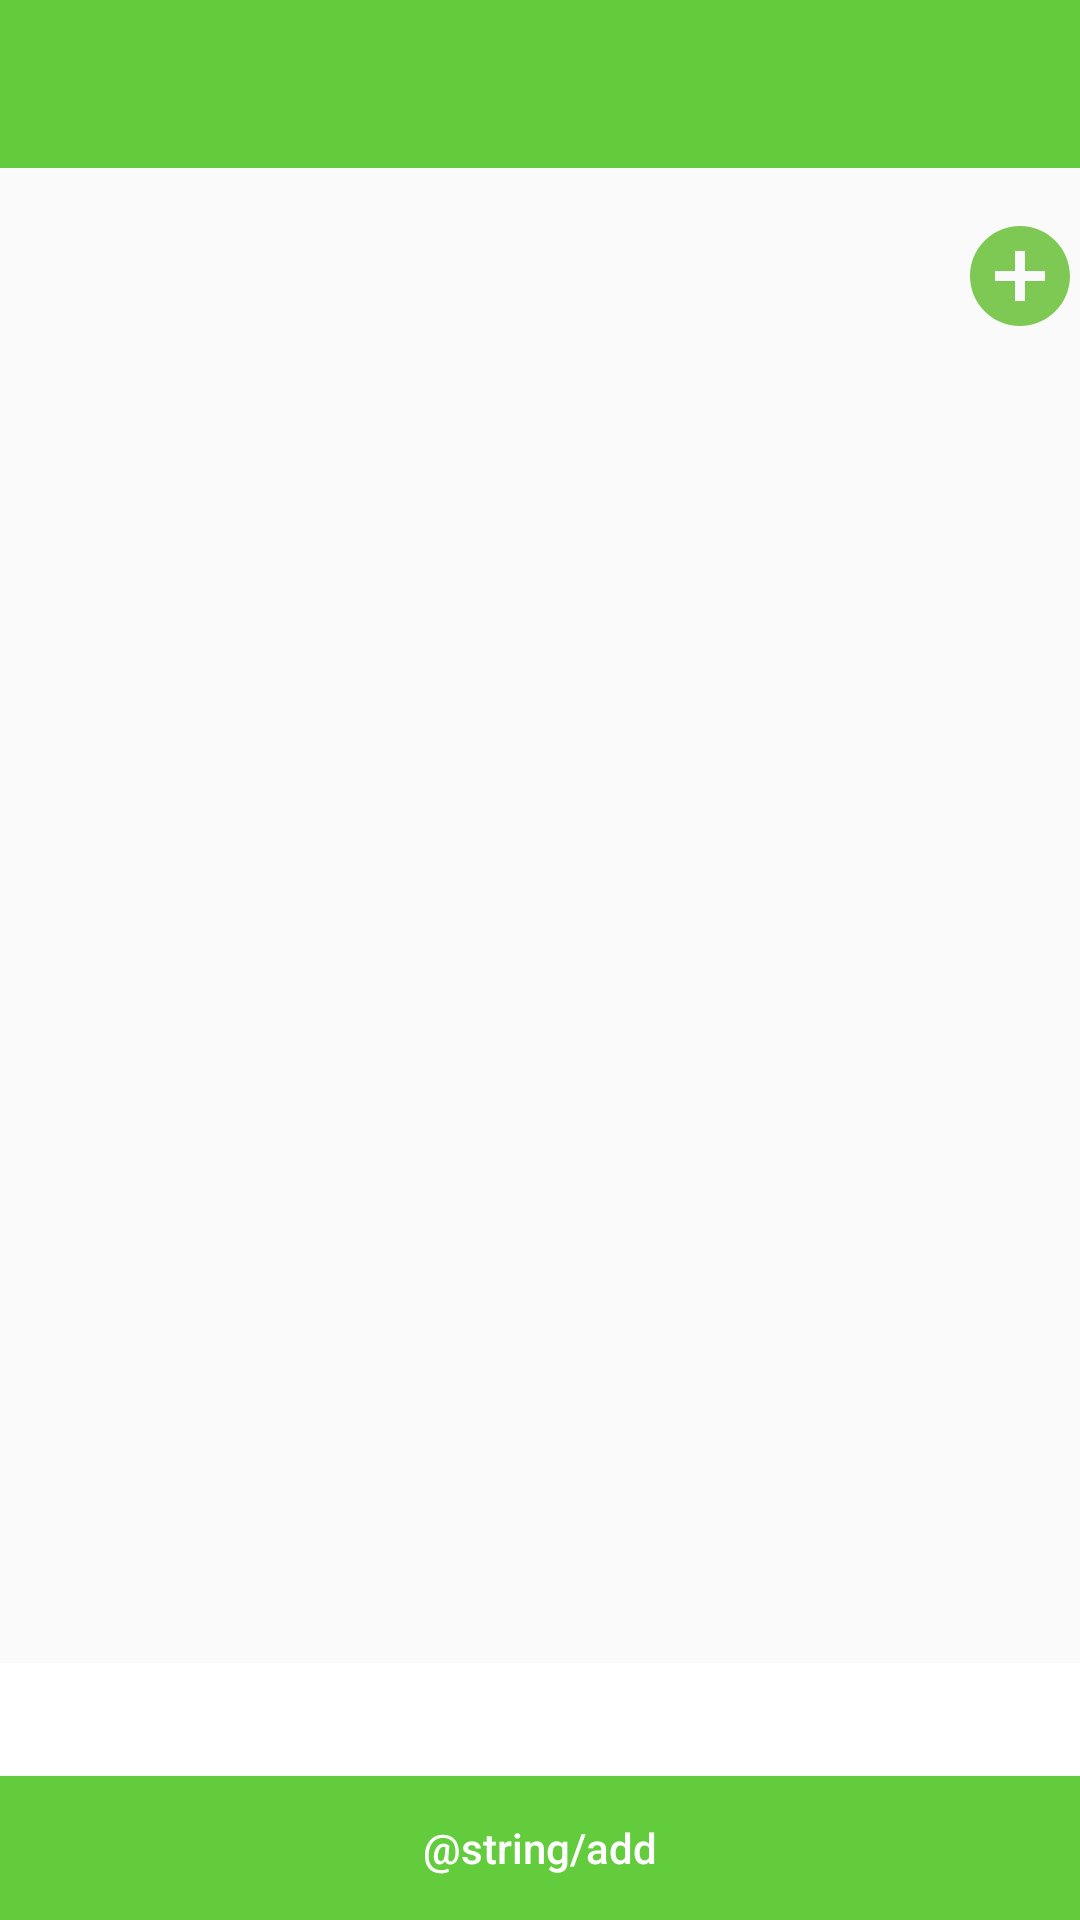

Screen size 1080x1920. Icon name, then its box in pixels as (x1, y1, x2, y2):
add circle: (970, 226, 1070, 326)
